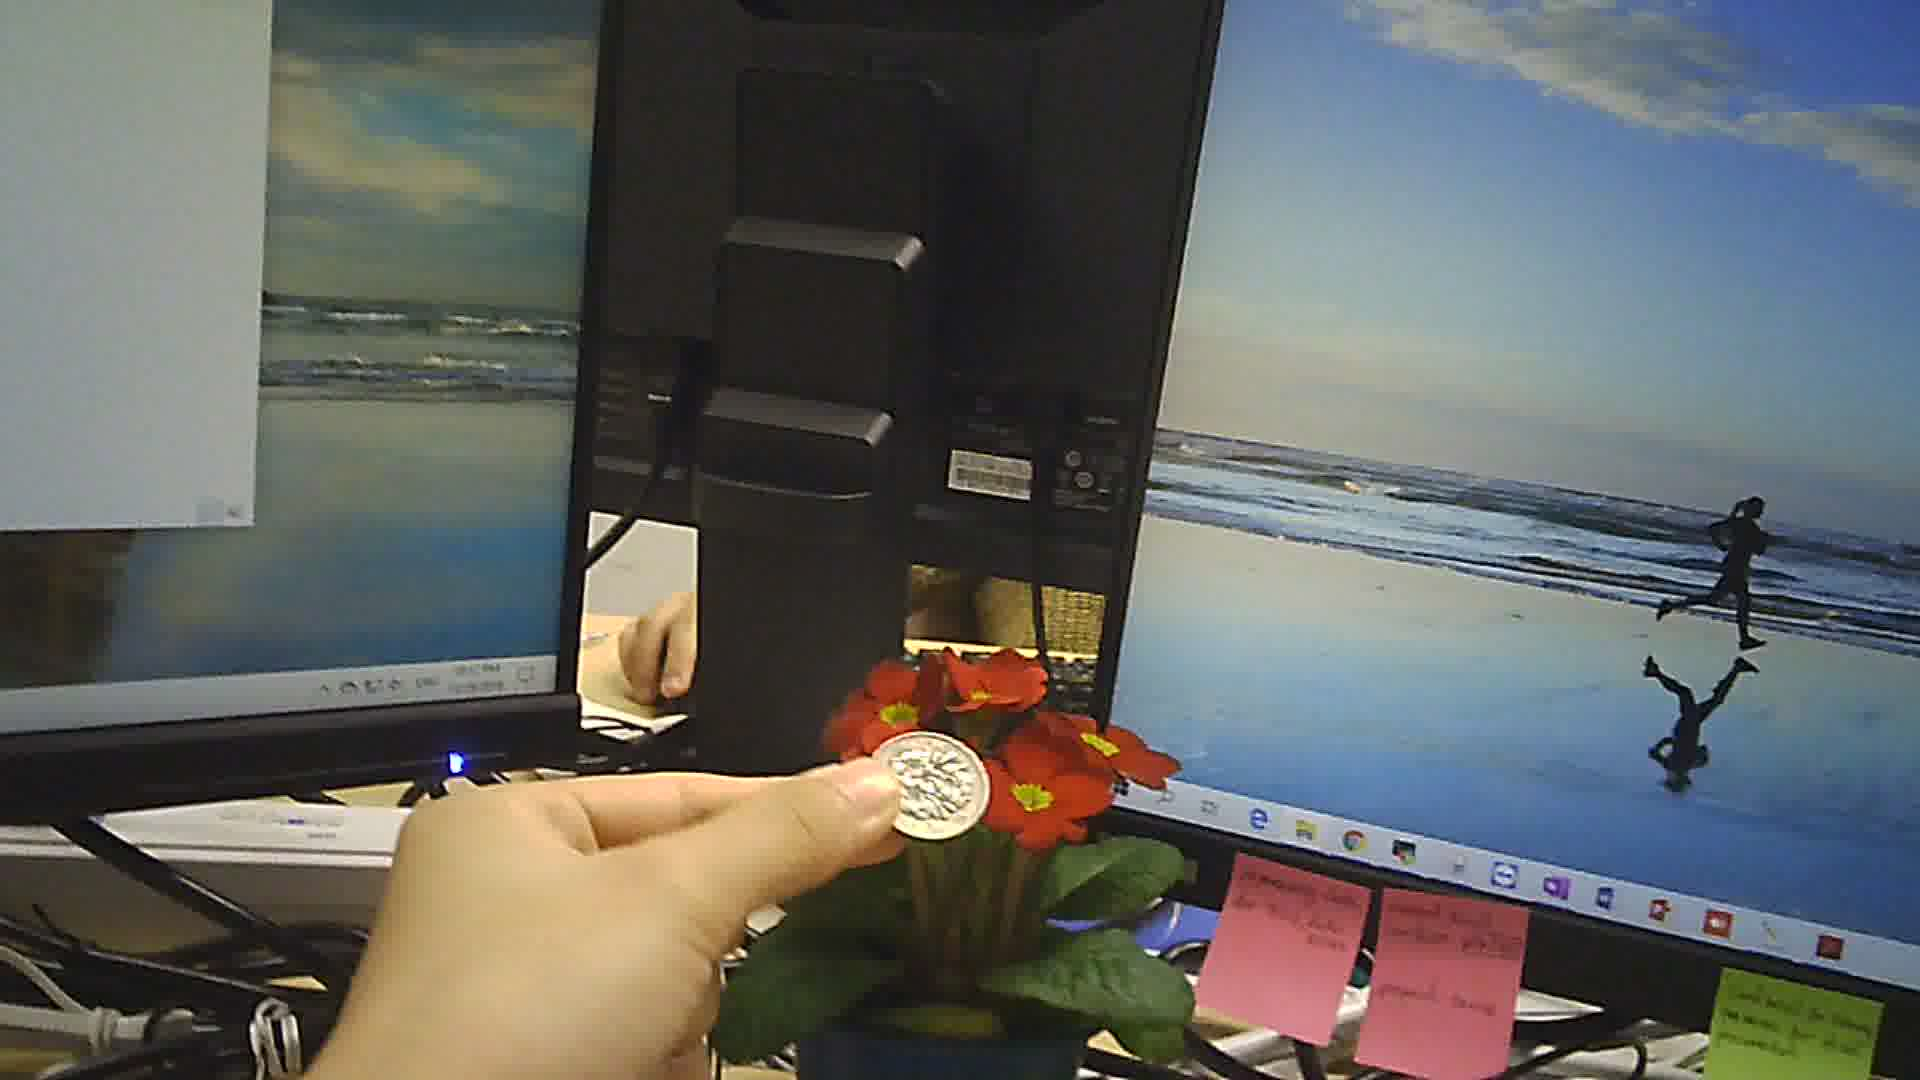100 Yen: (869, 723, 1000, 845)
